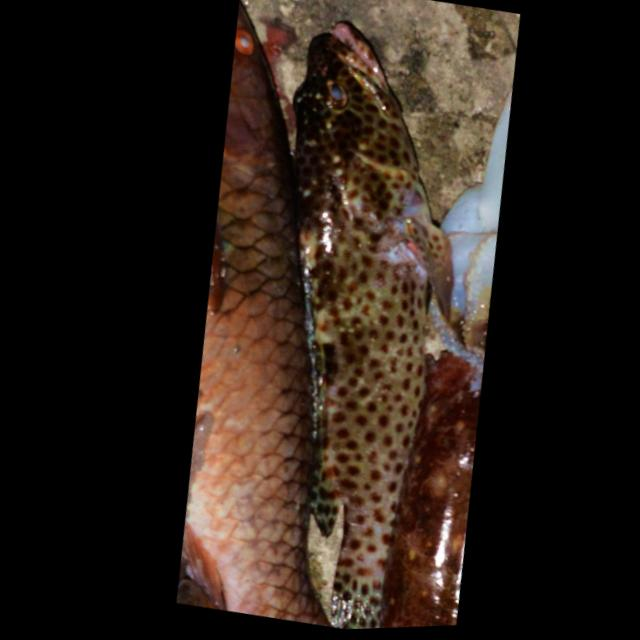Groupers: (184, 4, 533, 633)
